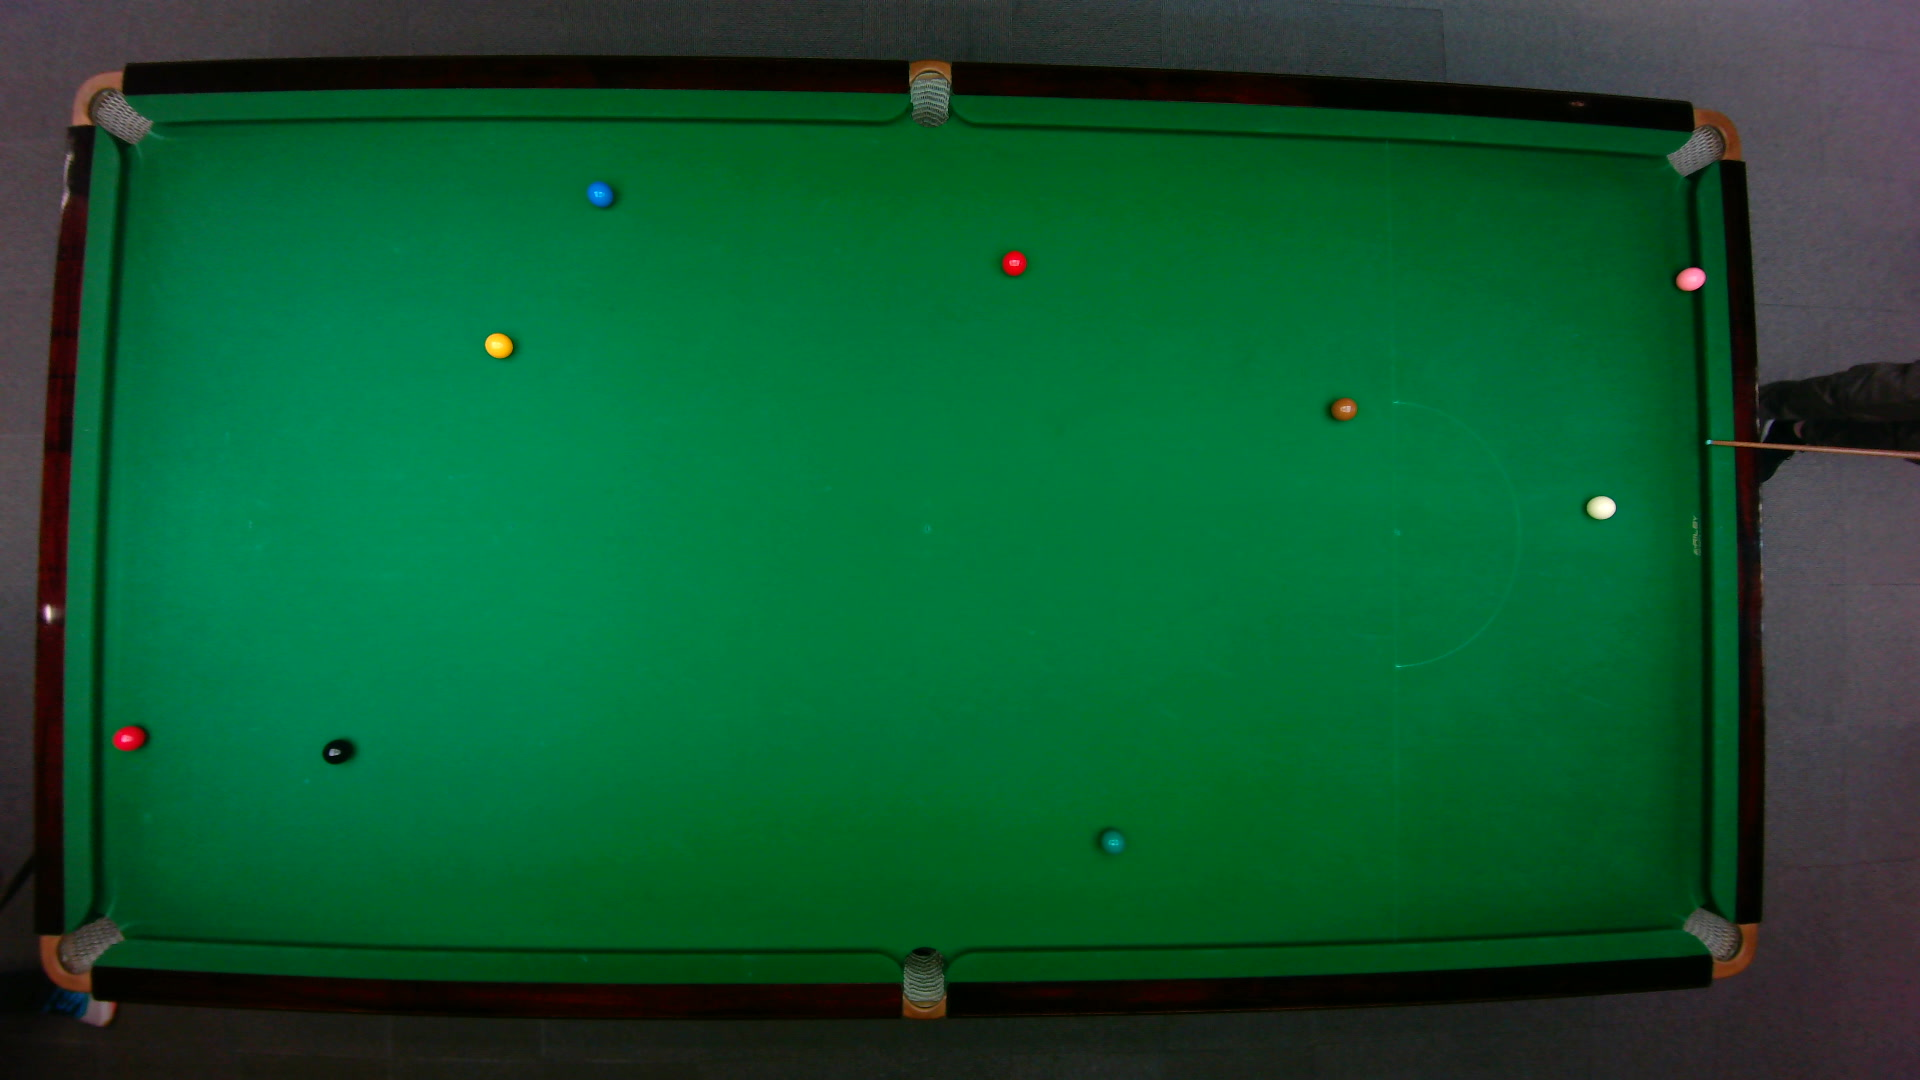bag: (37, 914, 127, 992), (69, 69, 152, 145), (1679, 905, 1756, 978), (1663, 107, 1741, 177), (901, 944, 944, 1021), (909, 57, 949, 128)
black: (320, 737, 352, 765)
blue: (584, 179, 613, 207)
brown: (1328, 396, 1360, 421)
cue: (1704, 435, 1919, 462)
green: (1098, 825, 1127, 855)
pink: (1673, 264, 1706, 291)
red: (109, 723, 146, 752), (1000, 248, 1029, 277)
white: (1584, 493, 1617, 520)
yellow: (483, 330, 514, 359)
zone: (1390, 400, 1519, 669)
